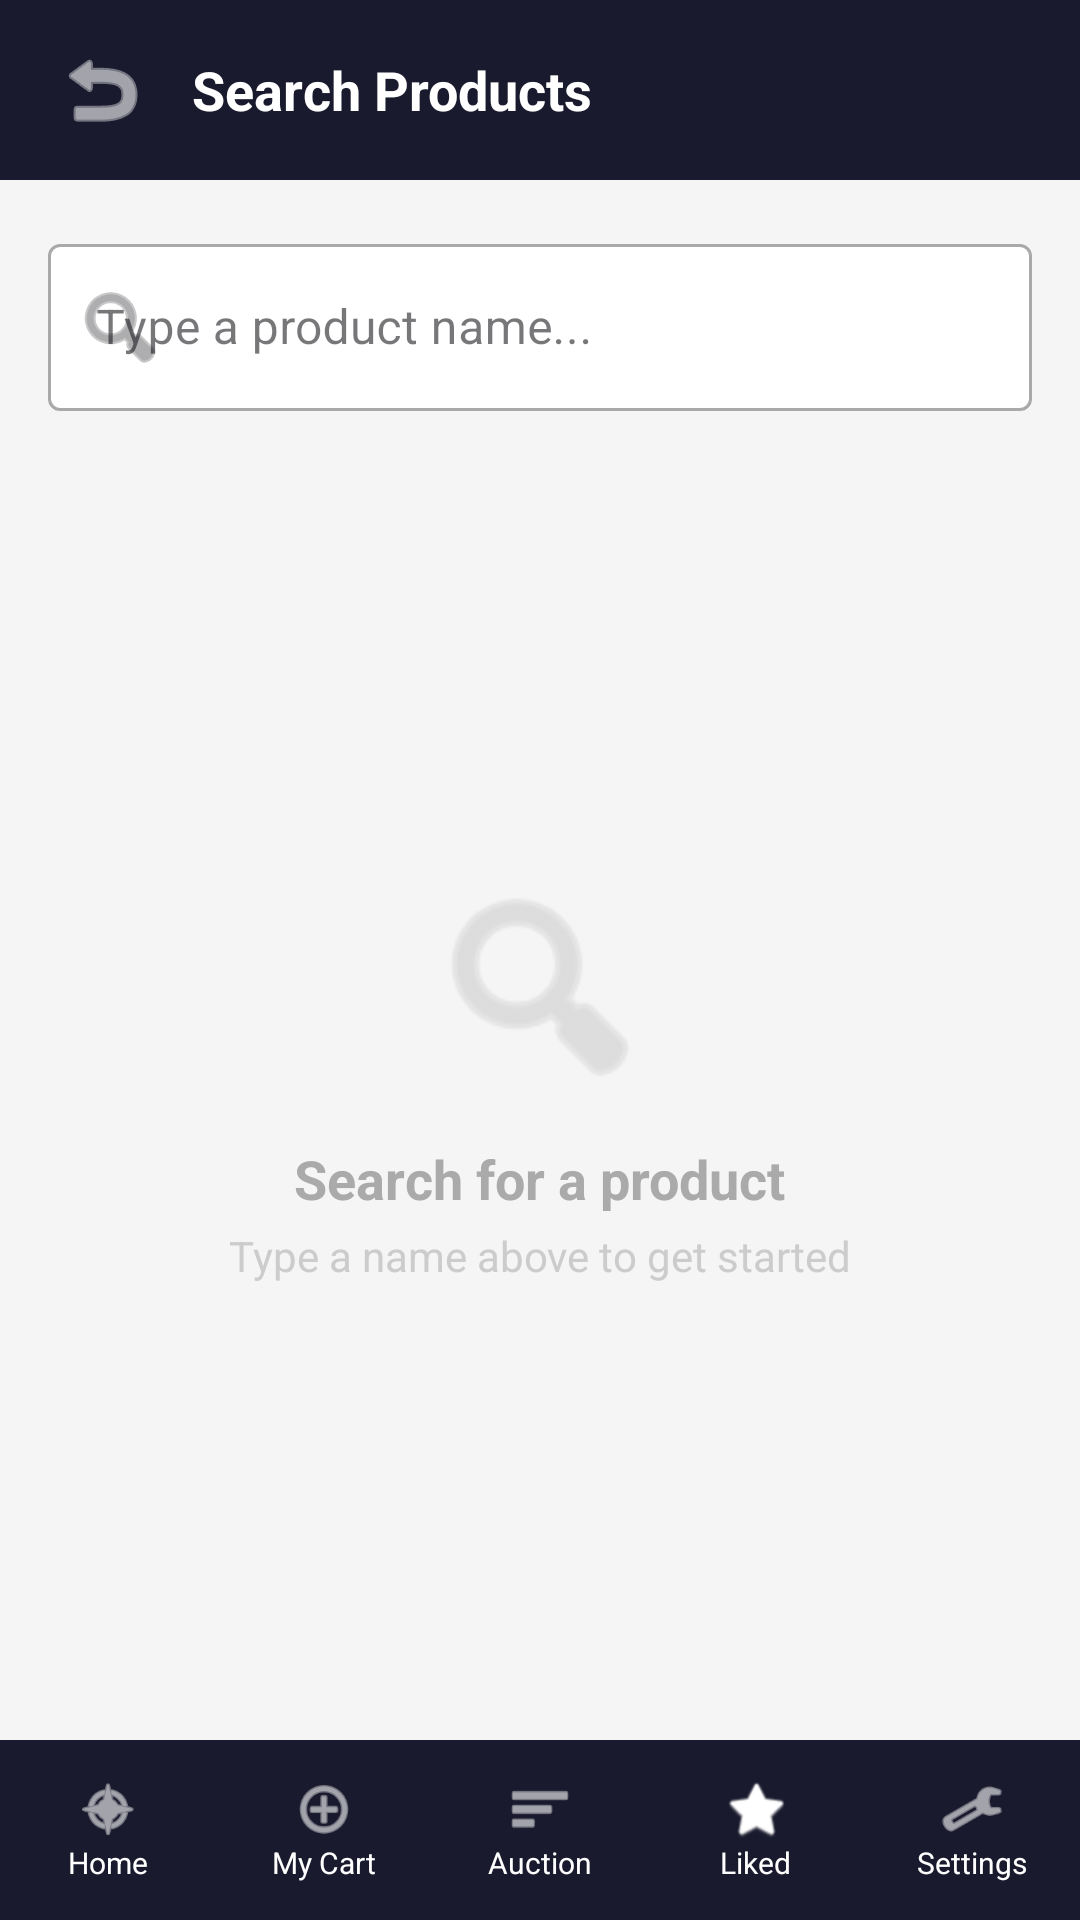

Locate icon controls on the screen. Image size 1080 × 1920, boxes as [x1=x1, y1=y1, x2=x2, y2=y2].
add: [x1=299, y1=1785, x2=349, y2=1834]
Back: [x1=69, y1=59, x2=138, y2=122]
compass: [x1=82, y1=1783, x2=134, y2=1835]
manage: [x1=942, y1=1786, x2=1002, y2=1832]
sort by size: [x1=512, y1=1791, x2=568, y2=1828]
star on: [x1=729, y1=1783, x2=784, y2=1836]
